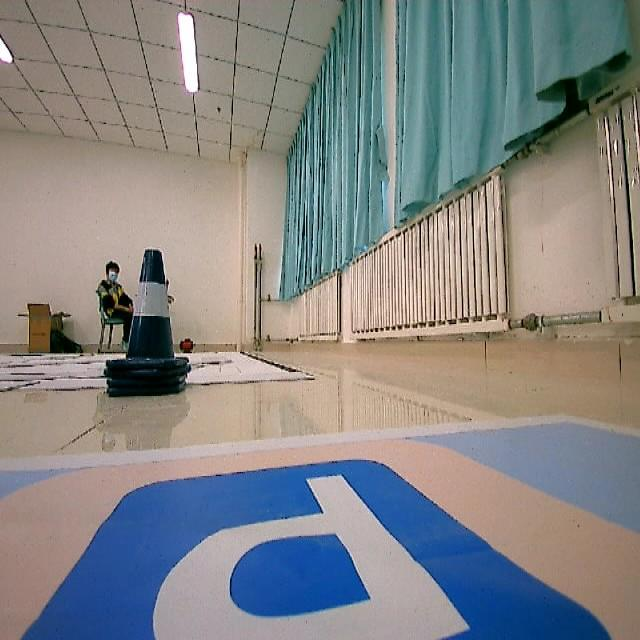obstacle: (97, 238, 198, 406)
